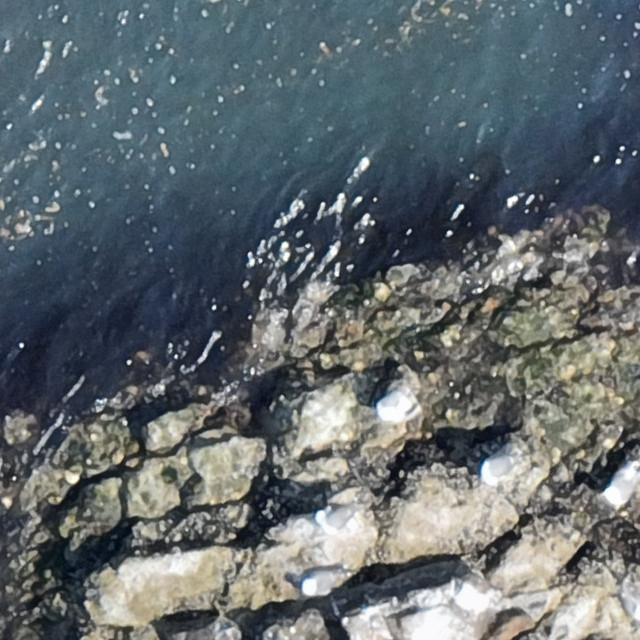umineko: (374, 388, 420, 426), (315, 502, 363, 536), (481, 454, 518, 487), (604, 469, 634, 508), (302, 572, 337, 594)
